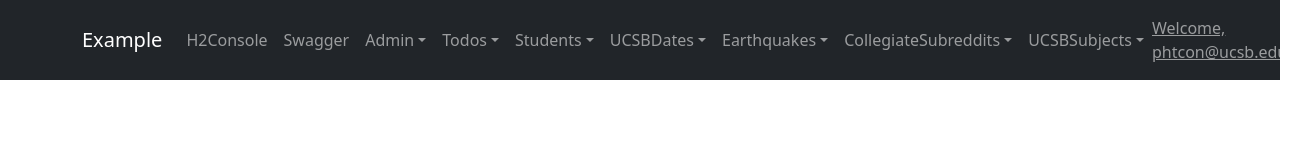
AppNavbar tests › renders the ucsbSubjects menu correctly for an admin
The image size is (1292, 161).
Click the button "UCSBSubjects": (1080, 40) [1028,29,1132,51]
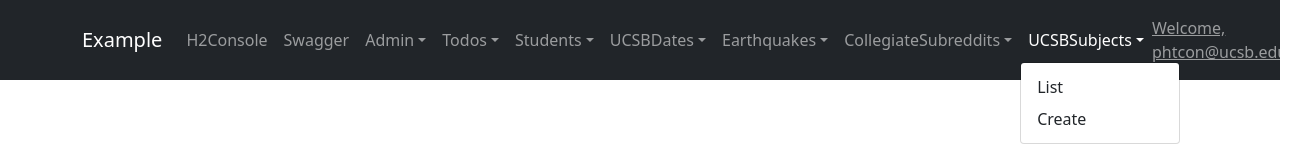
Expected: the link with test id "appnavbar-ucsbsubjects-create" is shown, [1037,108,1086,130]
